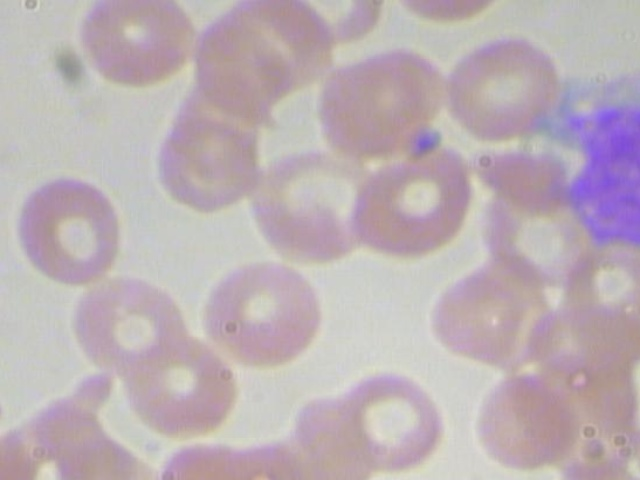RBC: (197, 256, 332, 374), (346, 139, 481, 256), (9, 168, 134, 290), (444, 28, 569, 143), (325, 365, 450, 479), (461, 363, 586, 477), (70, 271, 194, 377), (120, 331, 244, 437), (69, 0, 205, 91)
WBC: (521, 45, 640, 304)
